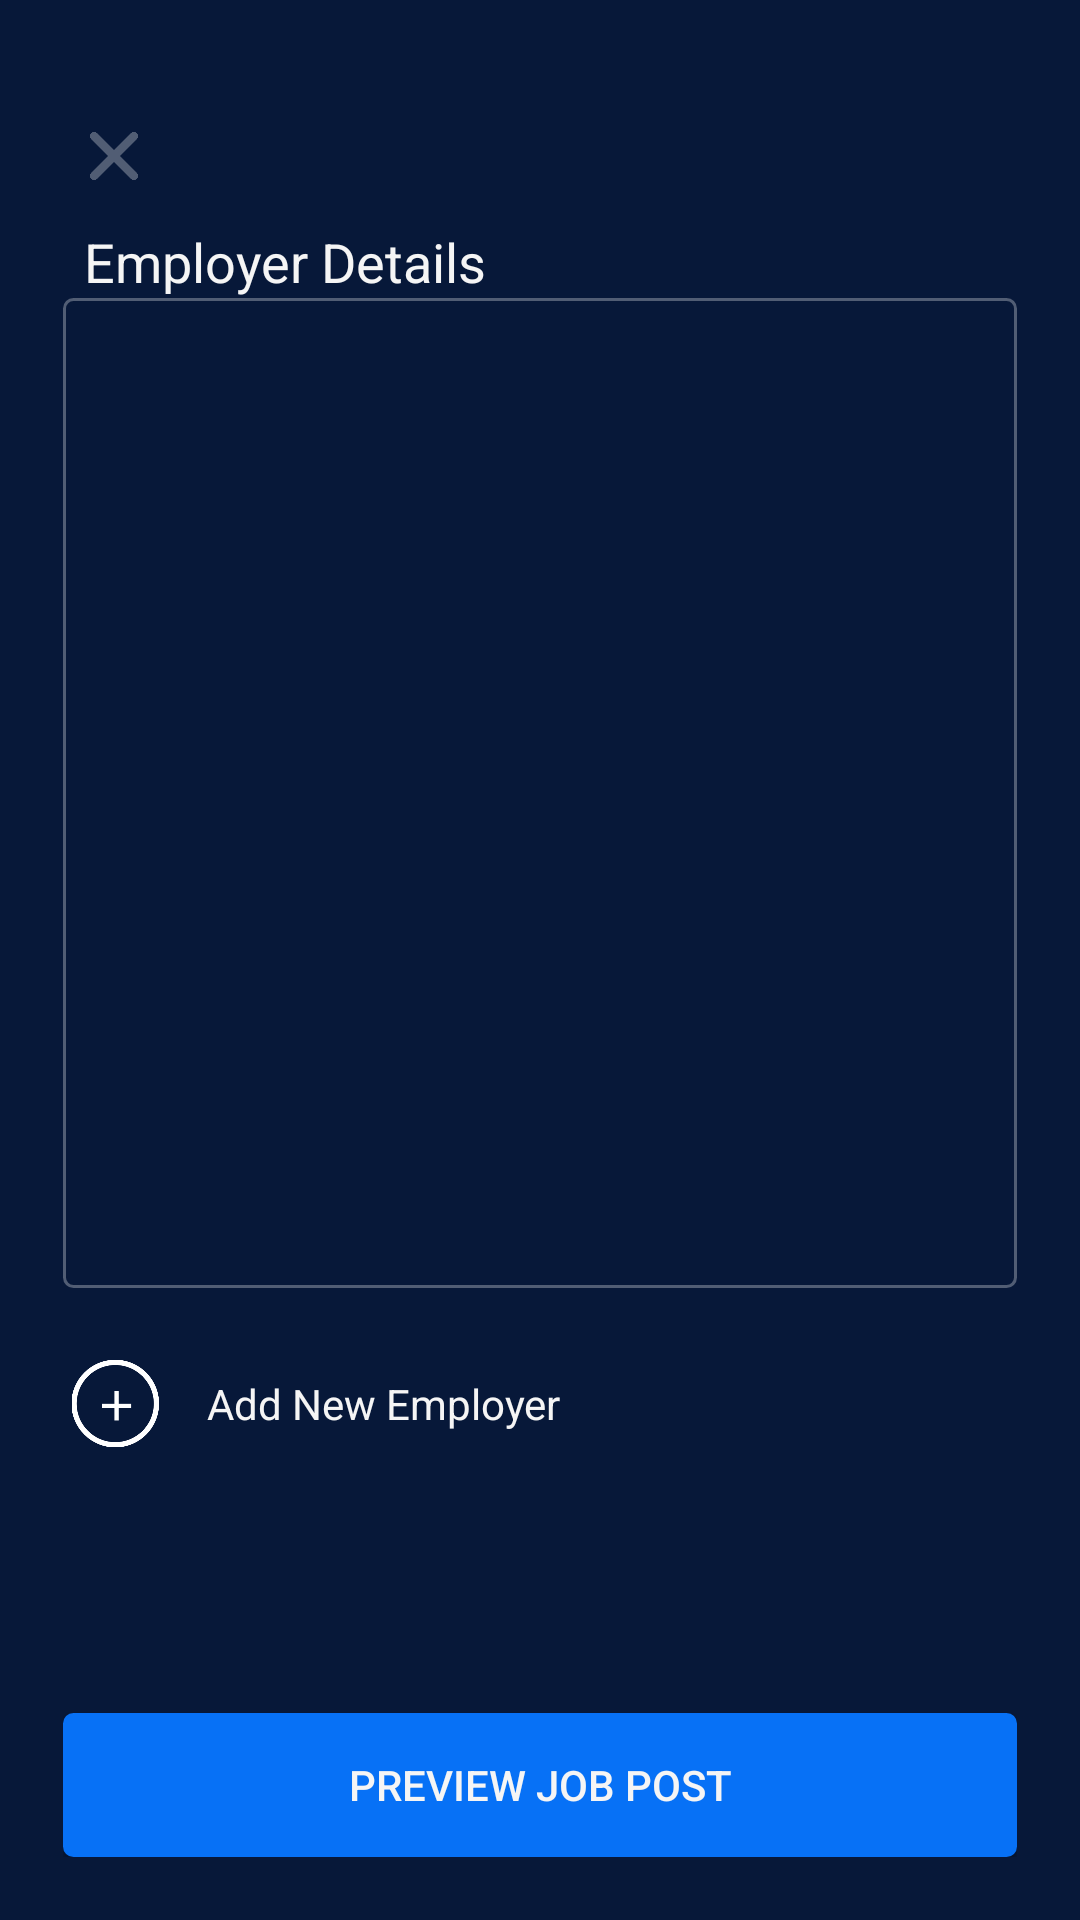

Where to tap for icons on this 1080px x 1920px app screen, as (x=x, y=y):
close: (x=114, y=156)
